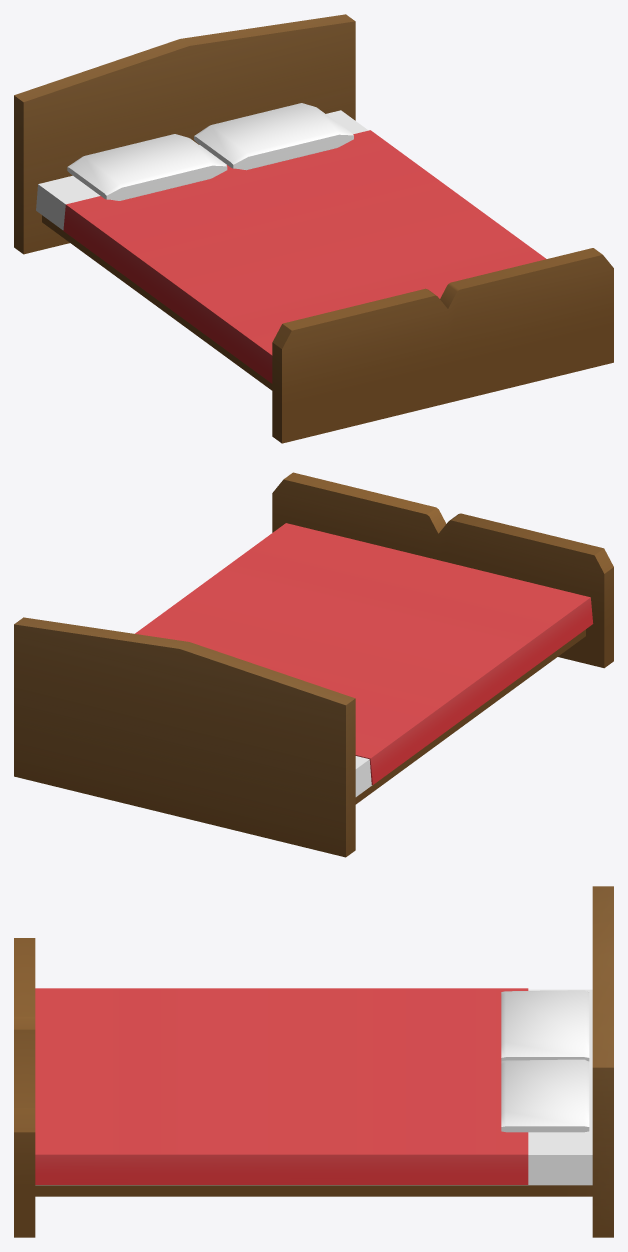
The model's file is bed2.FBX.
3 renders of one model, top to bottom at view 1: azimuth 30°, elevation 25°; view 2: azimuth 150°, elevation 25°; view 3: azimuth 270°, elevation 25°, orthographic. The views are drawn at different scales.
Parts seen in each view (by area): view 1: Box002; view 2: Box002; view 3: Box002.
Part boxes in pixels (x1,y1,x2,y2): Box002: (14, 14, 613, 443); Box002: (14, 472, 613, 857); Box002: (14, 886, 613, 1237).
Bounding box in the file's own units: 352 × 493 × 170.
